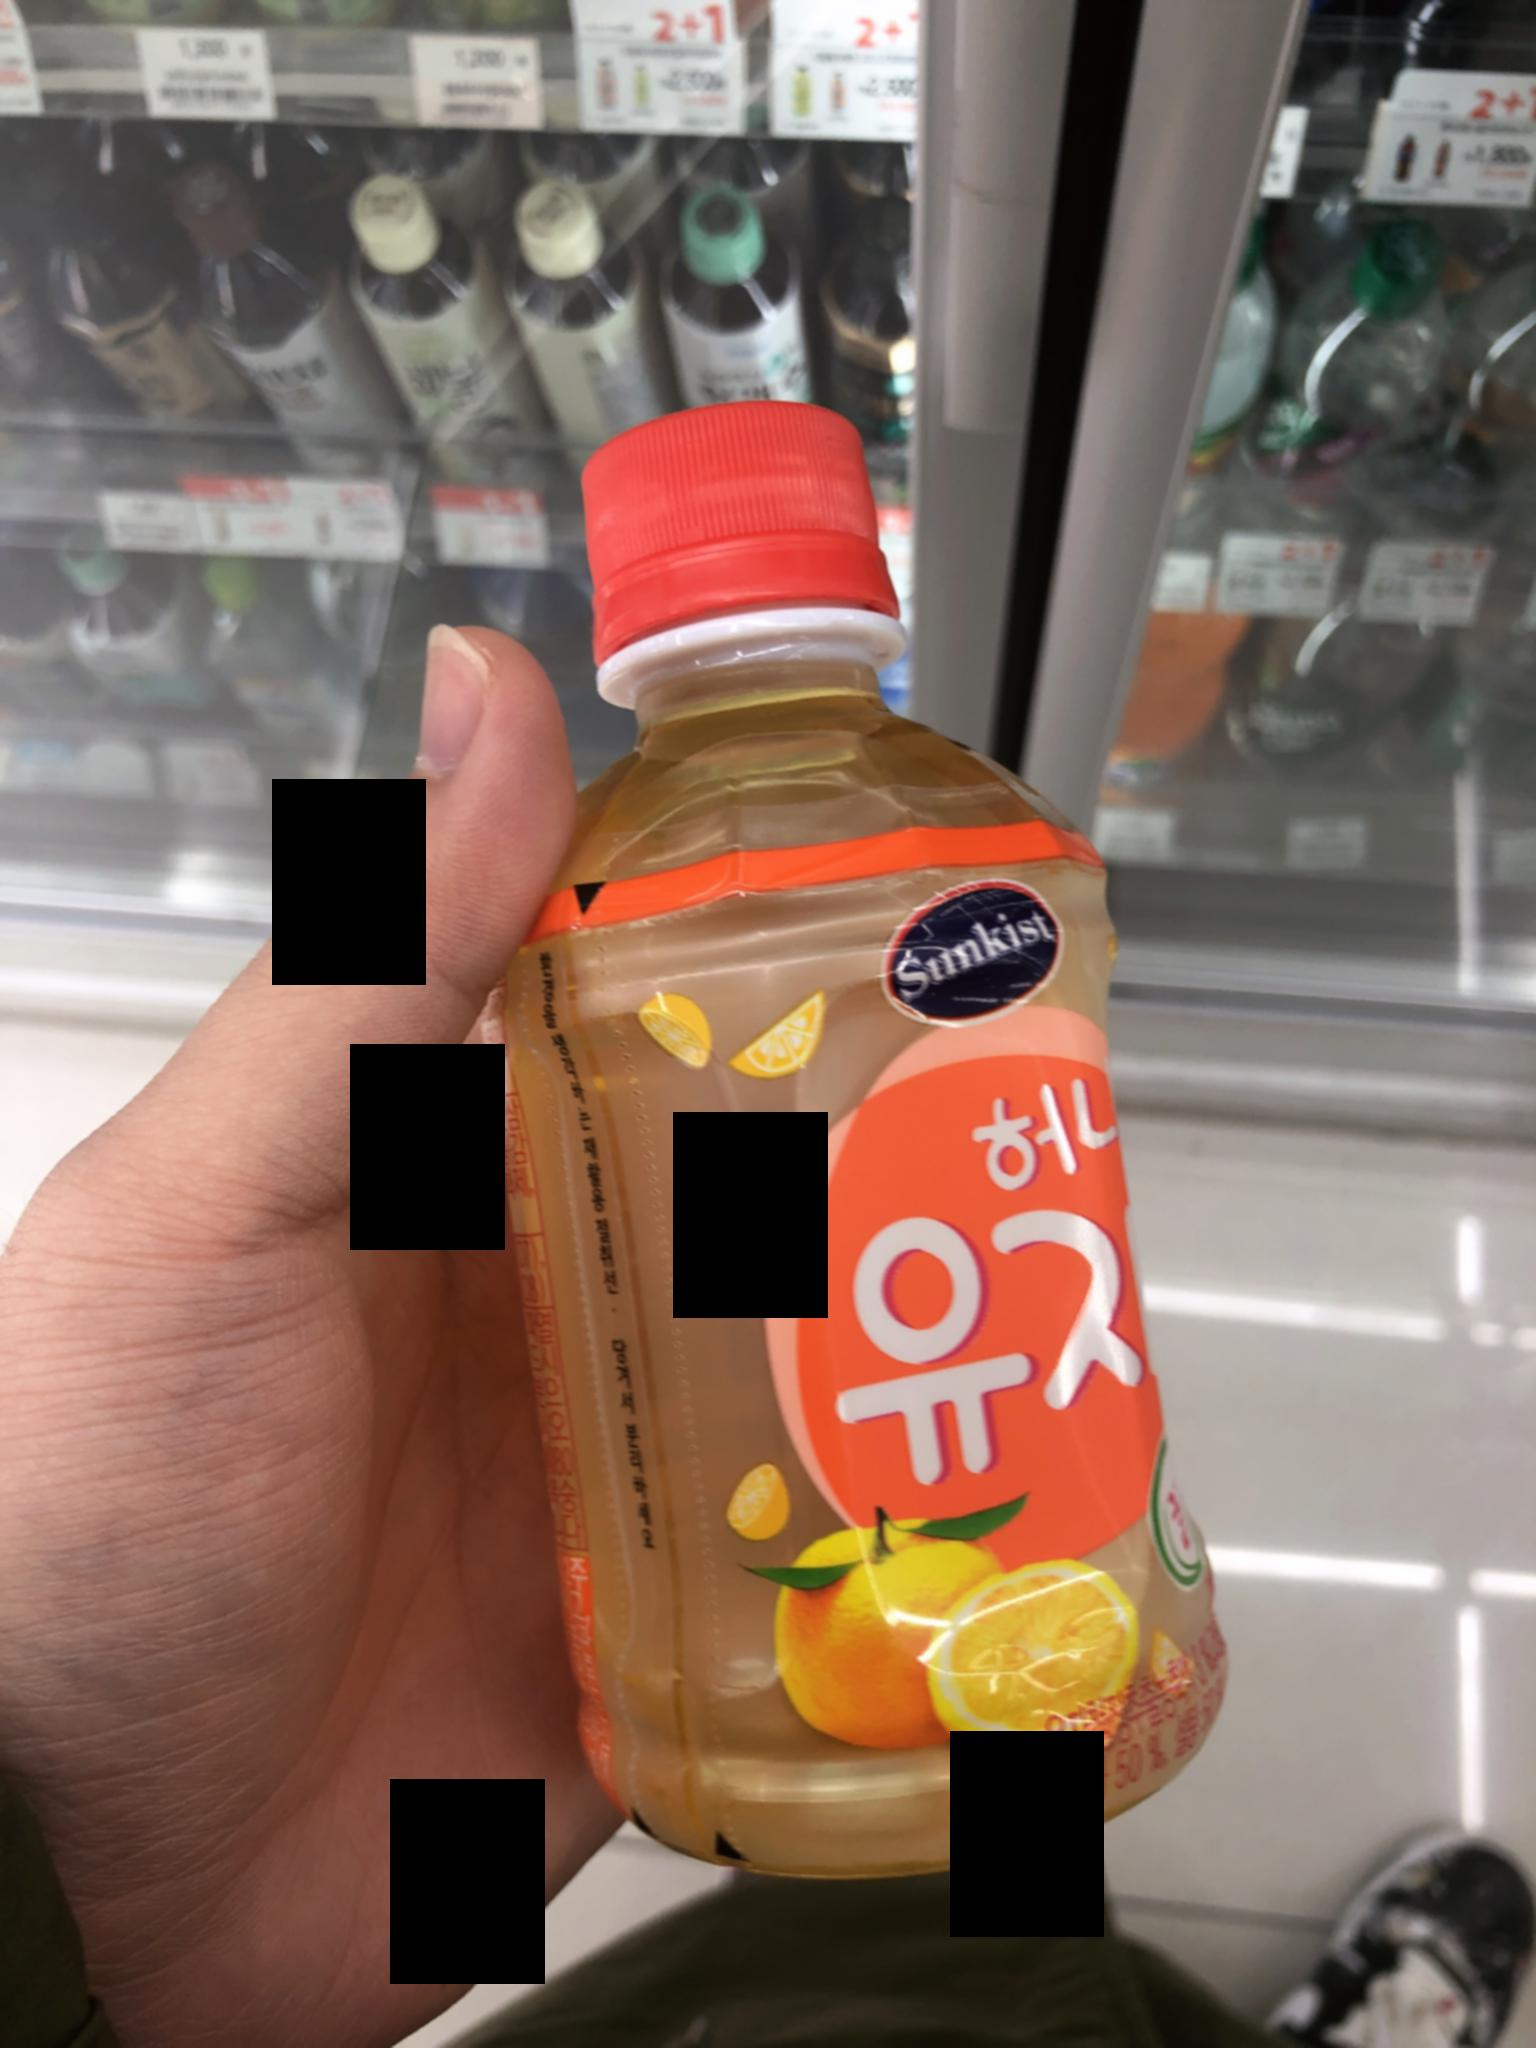honeyyuja: (323, 390, 1299, 1908)
